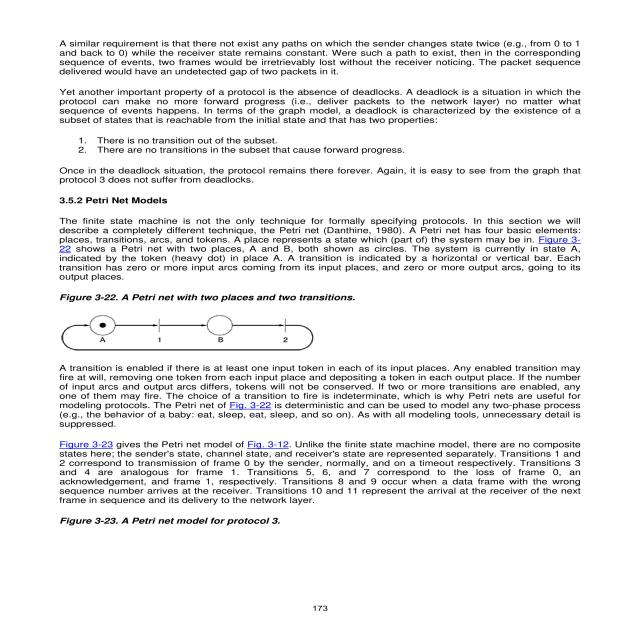diagram: (34, 287, 386, 357)
